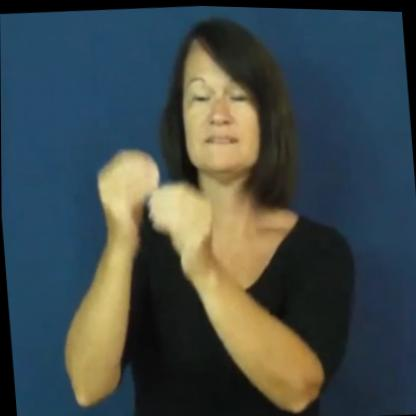Fix: (90, 136, 244, 314)
